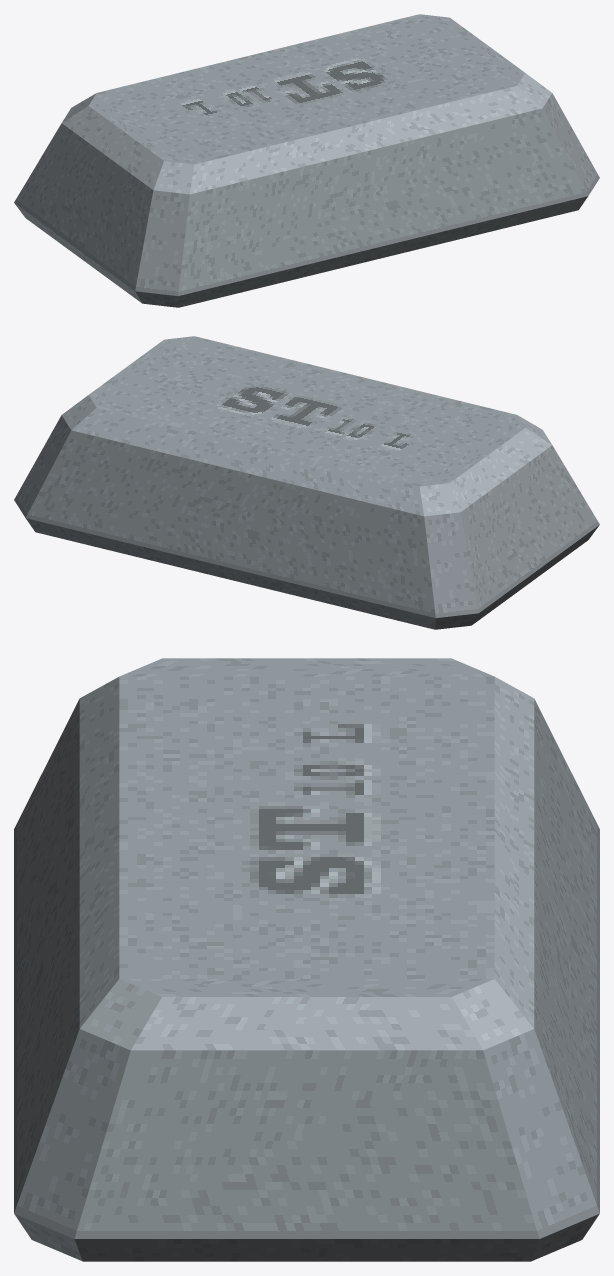
The model's file is 10l_steel.glb.
3 views of the same model, one above another, from view 1: azimuth 30°, elevation 25°; view 2: azimuth 150°, elevation 25°; view 3: azimuth 270°, elevation 25° (orthographic). The views are drawn at different scales.
Visible parts, largest first — view 1: block_one-piece cast ingot; view 2: block_one-piece cast ingot; view 3: block_one-piece cast ingot.
Part boxes in pixels (left/top/right/bottom): block_one-piece cast ingot: left=14, top=14, right=599, bottom=307; block_one-piece cast ingot: left=14, top=336, right=599, bottom=629; block_one-piece cast ingot: left=14, top=658, right=599, bottom=1261.
Bounding box in the file's own units: 0.39 × 0.0939 × 0.2218.
Materials: 1 (1 with a texture image).
